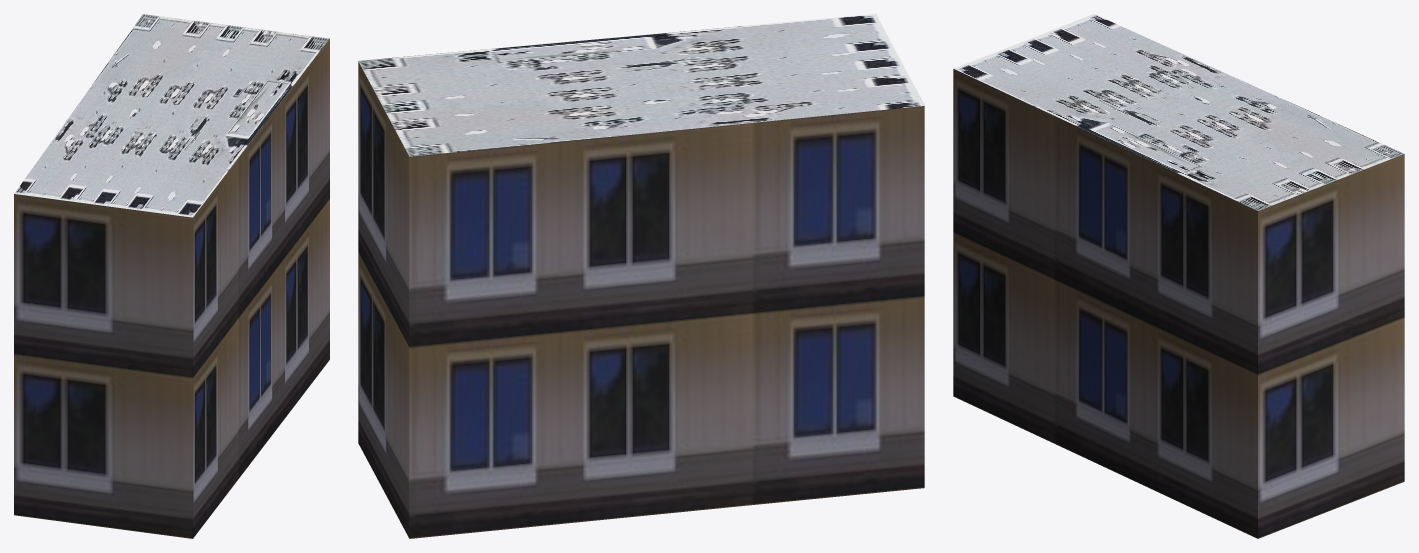
Rendered from ResTex__4155.fbx.
3 views of the same model, side by side, from view 1: azimuth 30°, elevation 25°; view 2: azimuth 150°, elevation 25°; view 3: azimuth 270°, elevation 25° (orthographic). The views are drawn at different scales.
Parts seen in each view (by area): view 1: CityEngineMaterial_5_m, CityEngineMaterial_8_m; view 2: CityEngineMaterial_5_m, CityEngineMaterial_8_m; view 3: CityEngineMaterial_5_m, CityEngineMaterial_8_m.
Boxes of the visible parts, x1,y1,x2,y2 form: CityEngineMaterial_5_m: (14, 39, 329, 538); CityEngineMaterial_8_m: (14, 14, 329, 217); CityEngineMaterial_5_m: (358, 61, 924, 538); CityEngineMaterial_8_m: (358, 14, 924, 156); CityEngineMaterial_5_m: (953, 69, 1404, 538); CityEngineMaterial_8_m: (953, 14, 1403, 210).
Size of the model in its own units: 7.74 by 6 by 7.49.
Materials: 2 (2 with a texture image).
